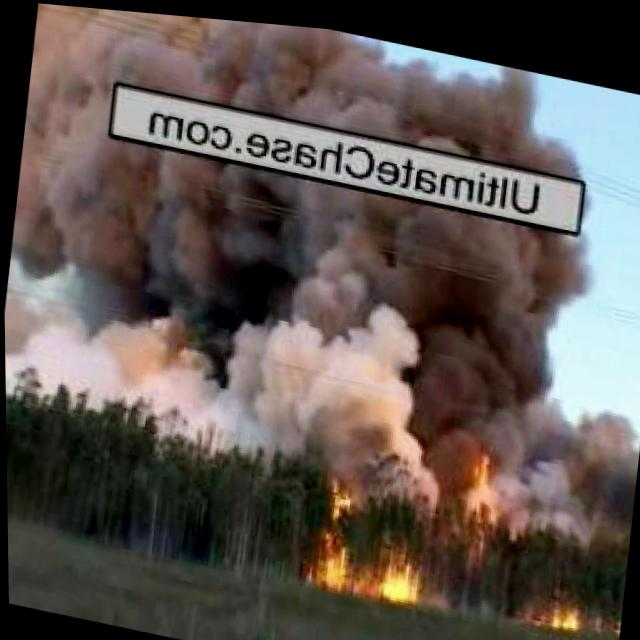Fire: (306, 474, 422, 594), (448, 425, 496, 532), (540, 583, 577, 616)
Smoke: (1, 115, 592, 503), (30, 2, 591, 165), (561, 388, 640, 537)
